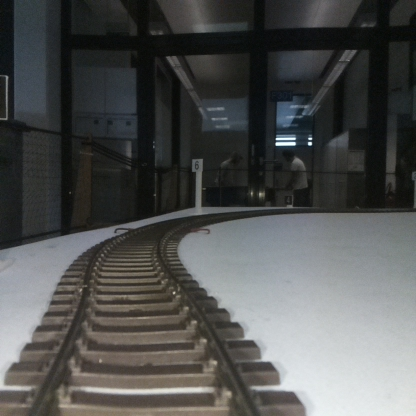white-info-6: (192, 159, 203, 212)
